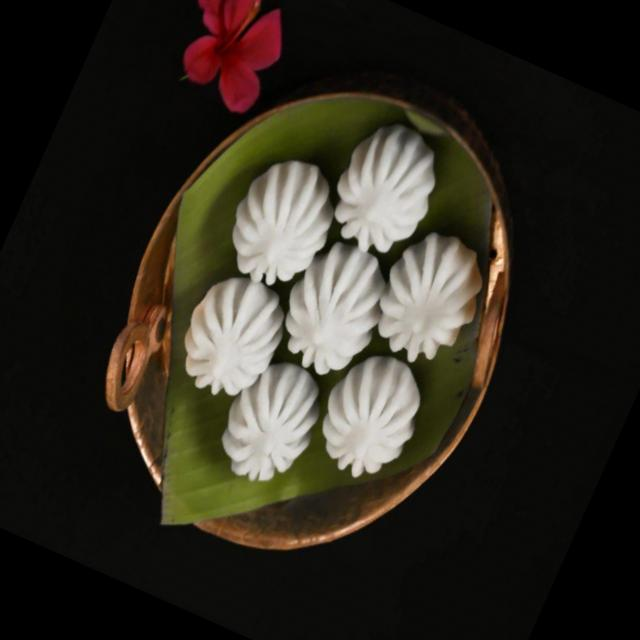modak: (188, 178, 473, 471)
